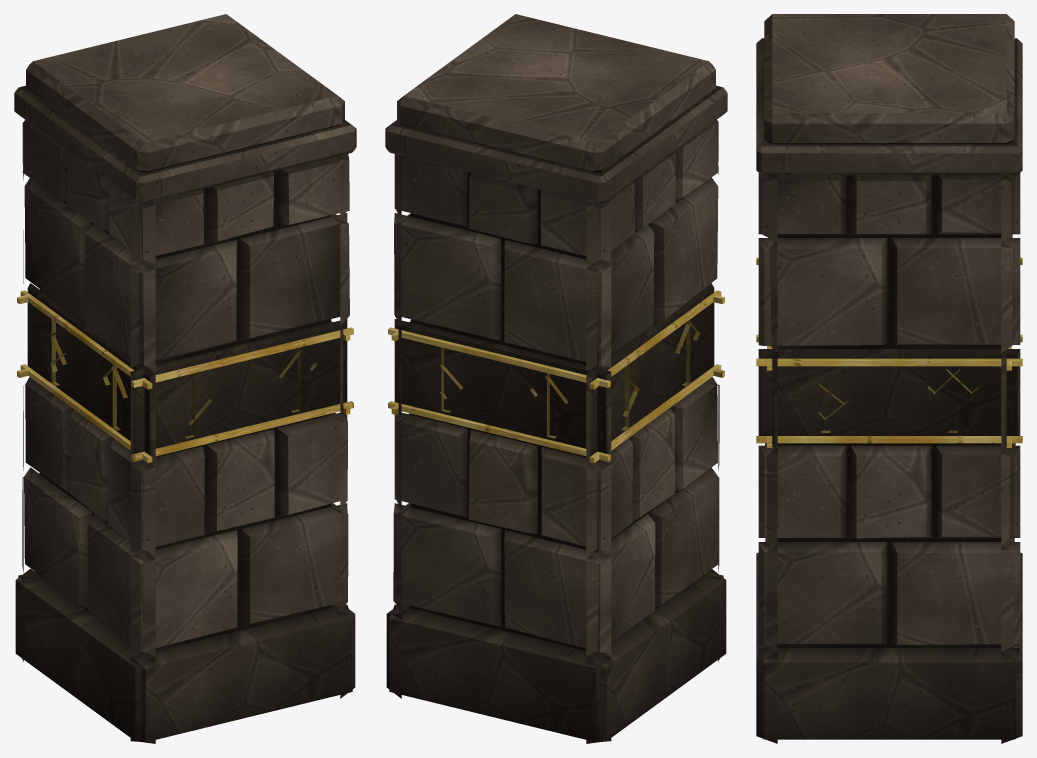
The model's file is nidavellir_wall.glb.
3 views of the same model, side by side, from view 1: azimuth 30°, elevation 25°; view 2: azimuth 150°, elevation 25°; view 3: azimuth 270°, elevation 25° (orthographic). The views are drawn at different scales.
Parts seen in each view (by area): view 1: nidavellir_wall; view 2: nidavellir_wall; view 3: nidavellir_wall.
Part boxes in pixels (left/top/right/bottom): nidavellir_wall: left=14, top=14, right=356, bottom=743; nidavellir_wall: left=385, top=14, right=727, bottom=743; nidavellir_wall: left=756, top=14, right=1022, bottom=743.
Bounding box in the file's own units: 1 × 2.6 × 1.
2 materials, 2 textured.
